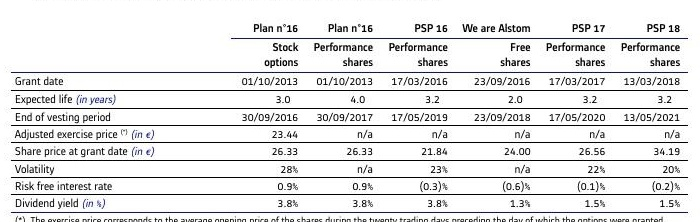table: (0, 0, 700, 222)
